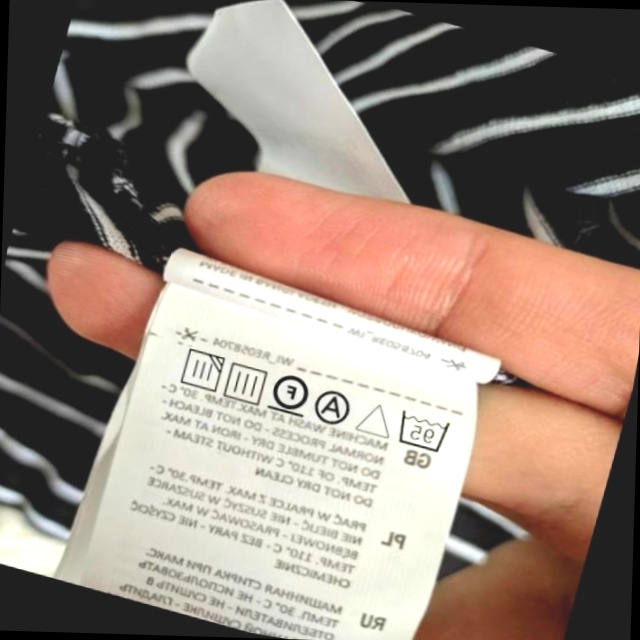95C: (390, 405, 454, 457)
bleach: (354, 394, 398, 443)
drip_dry: (219, 357, 272, 408)
drip_dry_in_shade: (173, 343, 227, 397)
dry_clean: (310, 385, 357, 430)
dry_clean_petrol_only: (266, 366, 315, 420)
